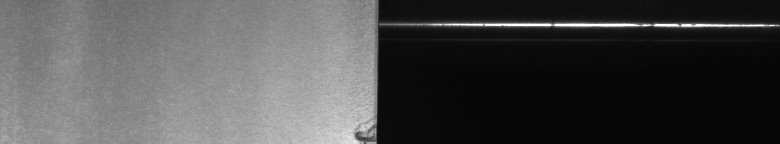hb: (348, 116, 368, 136)
